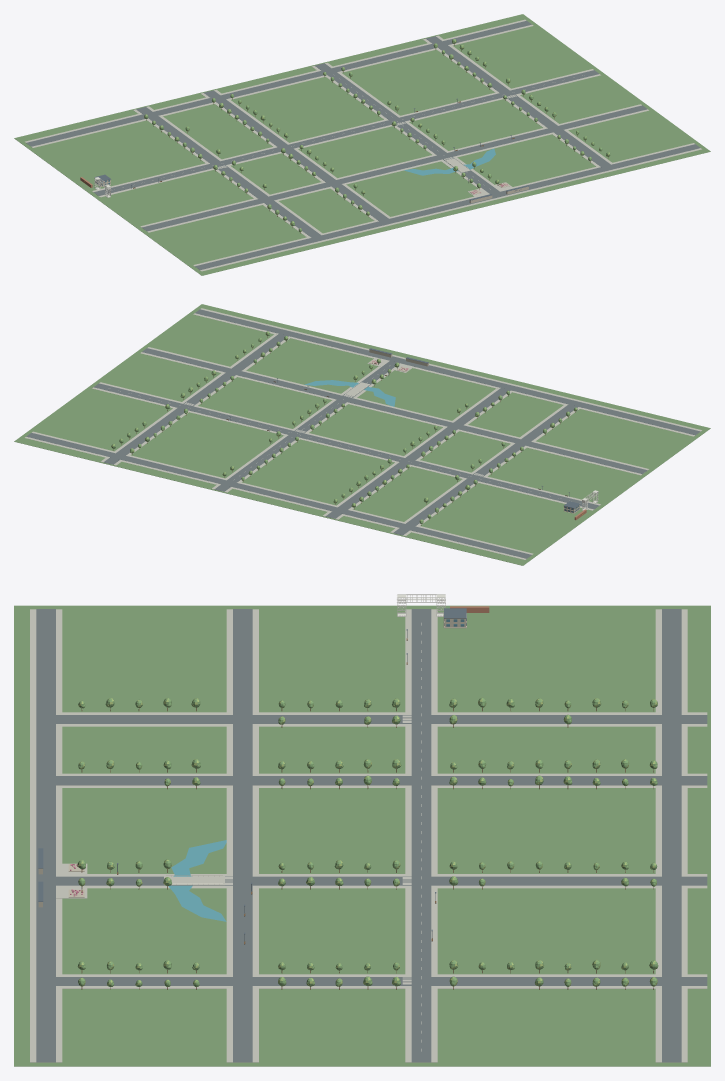
File: core.glb
3 views of the same model, one above another, from view 1: azimuth 30°, elevation 25°; view 2: azimuth 150°, elevation 25°; view 3: azimuth 270°, elevation 25° (orthographic). The views are drawn at different scales.
Visible parts, largest first — view 1: site__grass, roads__asphalt, roads__paving, lake__water; view 2: site__grass, roads__asphalt, roads__paving, lake__water; view 3: site__grass, roads__asphalt, roads__paving, lake__water.
Part boxes in pixels (bbox=[...]): site__grass: bbox=[14, 14, 710, 275]; roads__asphalt: bbox=[26, 20, 700, 269]; roads__paving: bbox=[25, 19, 701, 271]; lake__water: bbox=[404, 148, 495, 175]; site__grass: bbox=[14, 304, 710, 565]; roads__asphalt: bbox=[26, 309, 700, 558]; roads__paving: bbox=[25, 308, 701, 559]; lake__water: bbox=[304, 380, 395, 406]; site__grass: bbox=[14, 605, 710, 1066]; roads__asphalt: bbox=[36, 609, 707, 1062]; roads__paving: bbox=[30, 609, 707, 1062]; lake__water: bbox=[168, 840, 226, 921].
Size of the model in its own units: 610 by 12.26 by 390.
